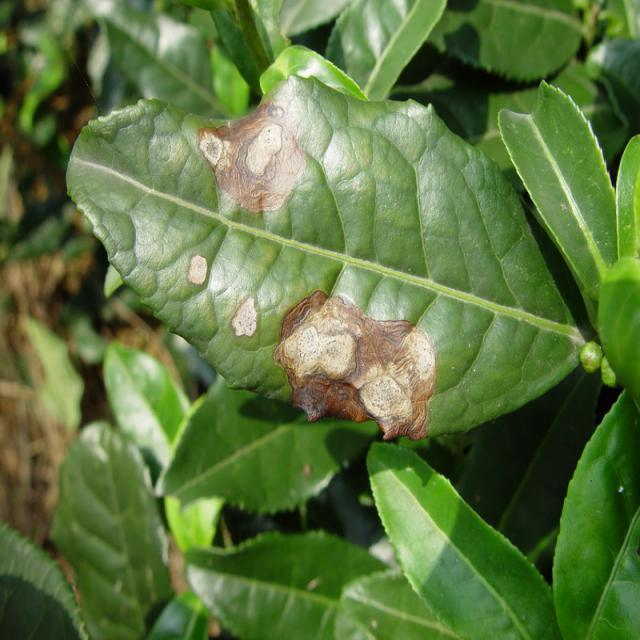Tea cloud leaf blight: (264, 281, 442, 445), (194, 110, 320, 221), (211, 285, 264, 342), (177, 247, 213, 288)
